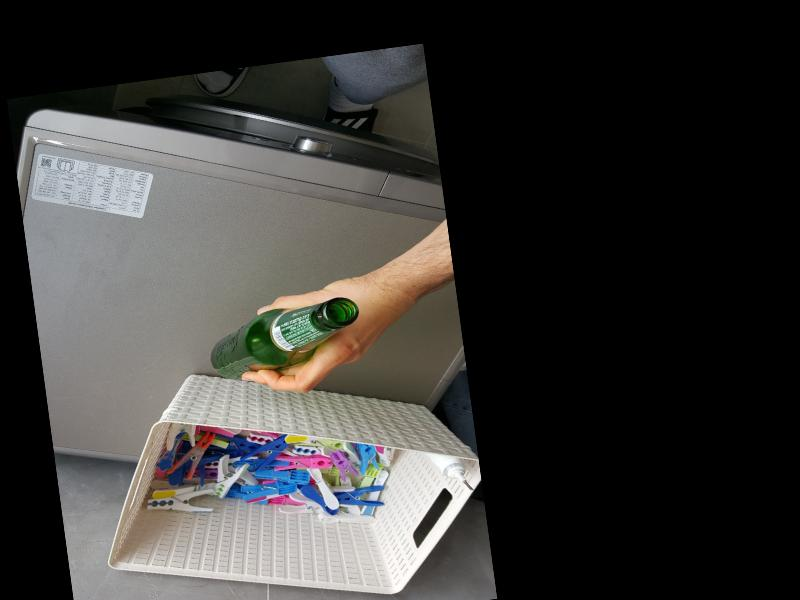Beer: (205, 294, 365, 385)
